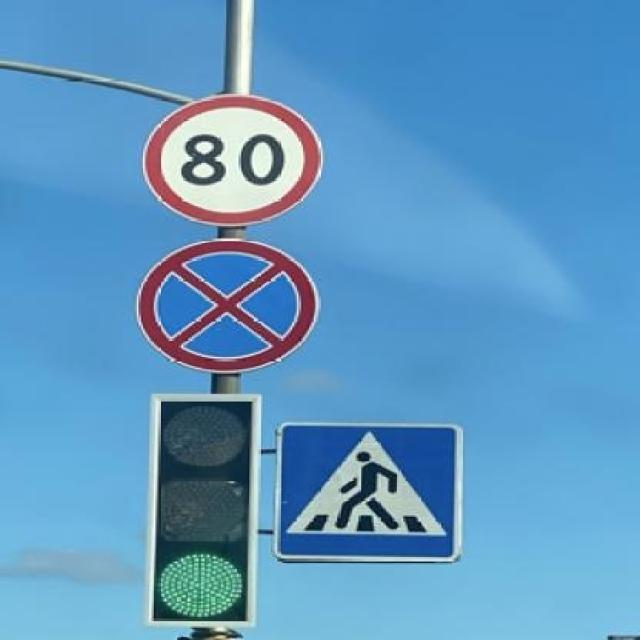forb_speed_over_80: (148, 92, 325, 226)
